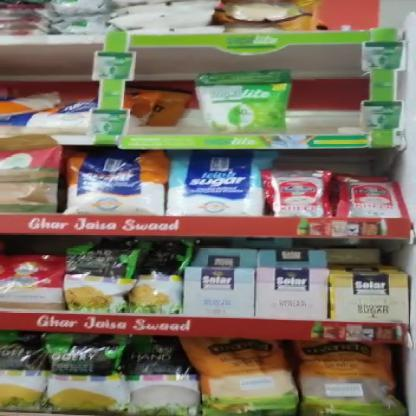SUGARLITE POUCH 500G: (194, 69, 294, 134)
